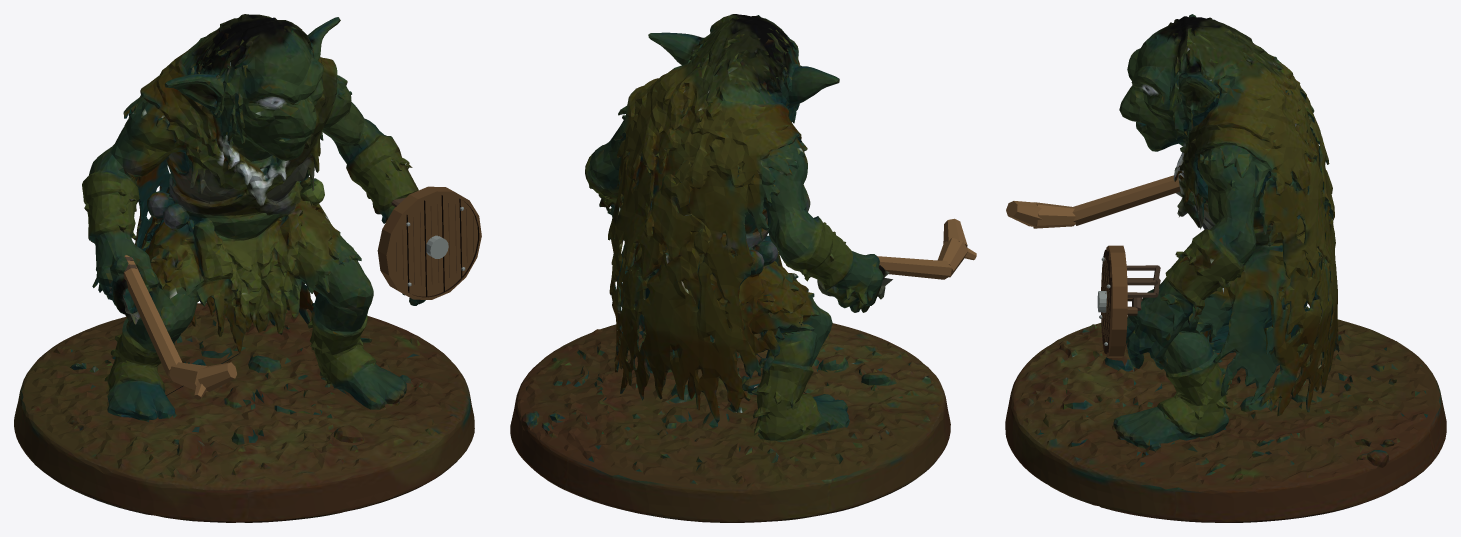
File: goblinCombatente_cajado_madeira_com_escudo.glb
3 views of the same model, side by side, from view 1: azimuth 30°, elevation 25°; view 2: azimuth 150°, elevation 25°; view 3: azimuth 270°, elevation 25° (orthographic). The views are drawn at different scales.
Visible parts, largest first — view 1: goblinCombatente_cajado_madeira_com_escudo; view 2: goblinCombatente_cajado_madeira_com_escudo; view 3: goblinCombatente_cajado_madeira_com_escudo.
Part boxes in pixels (x1=…): goblinCombatente_cajado_madeira_com_escudo: x1=14, y1=14, x2=481, y2=522; goblinCombatente_cajado_madeira_com_escudo: x1=510, y1=14, x2=976, y2=522; goblinCombatente_cajado_madeira_com_escudo: x1=1005, y1=14, x2=1446, y2=522.
Bounding box in the file's own units: 1.94 × 1.96 × 1.91.
Materials: 13 (6 with a texture image).
